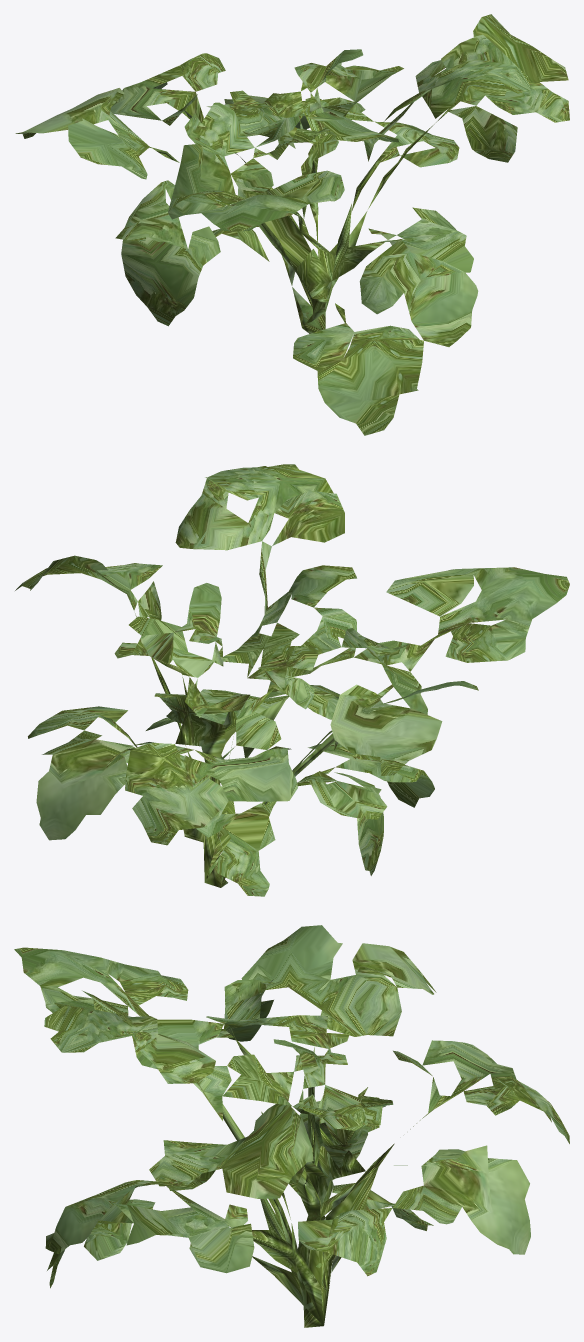
The model's file is lingcao_huichun_mature.obj.
The picture shows the model from 3 angles, top to bottom: view 1: azimuth 30°, elevation 25°; view 2: azimuth 150°, elevation 25°; view 3: azimuth 270°, elevation 25°; orthographic projection. The views are drawn at different scales.
Parts seen in each view (by area): view 1: lingcao_huichun_mature; view 2: lingcao_huichun_mature; view 3: lingcao_huichun_mature.
Part boxes in pixels (<box>): lingcao_huichun_mature: <box>15,14,569,435</box>; lingcao_huichun_mature: <box>15,464,569,896</box>; lingcao_huichun_mature: <box>14,925,569,1327</box>.
Size of the model in its own units: 0.3965 by 0.2603 by 0.3773.
Materials: 1 (1 with a texture image).
